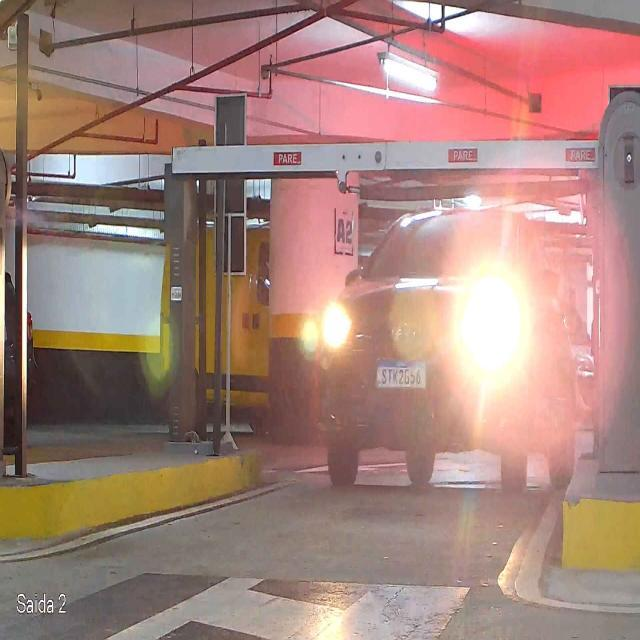mercosul_plate: (374, 359, 427, 389)
